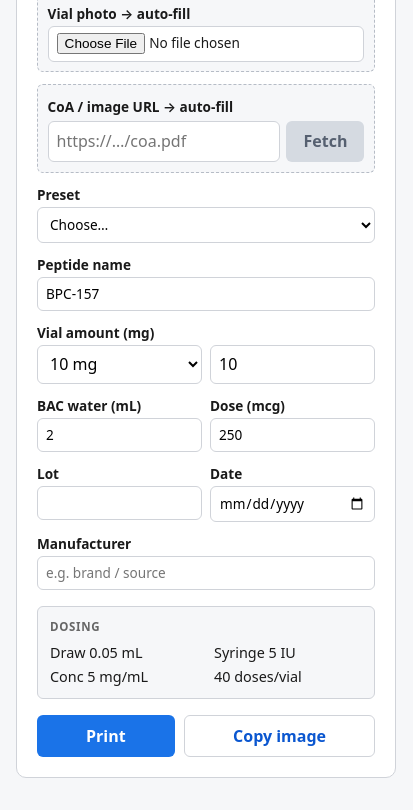
App › copies the label image and confirms via a note
(page scrolled)
Click the button "Copy image".
click(280, 736)  # box top-left (184, 715), bottom-right (375, 757)
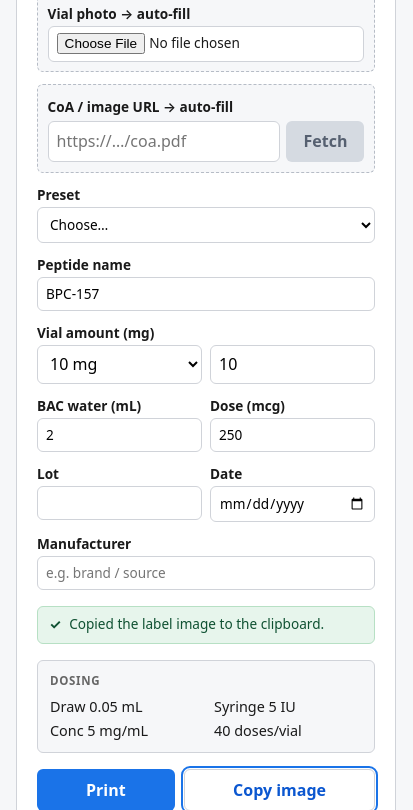
Expected: the text "Copied the label image to the clipboard." is shown, top-left (69, 616), bottom-right (324, 634)
